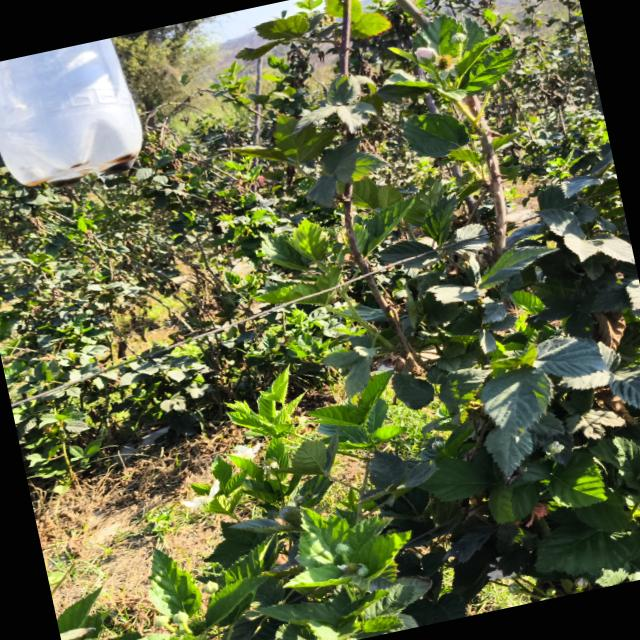boton: (414, 47, 437, 61), (172, 610, 189, 624), (203, 581, 219, 594), (450, 32, 466, 44), (335, 542, 349, 554), (155, 615, 170, 626), (357, 565, 368, 577)
